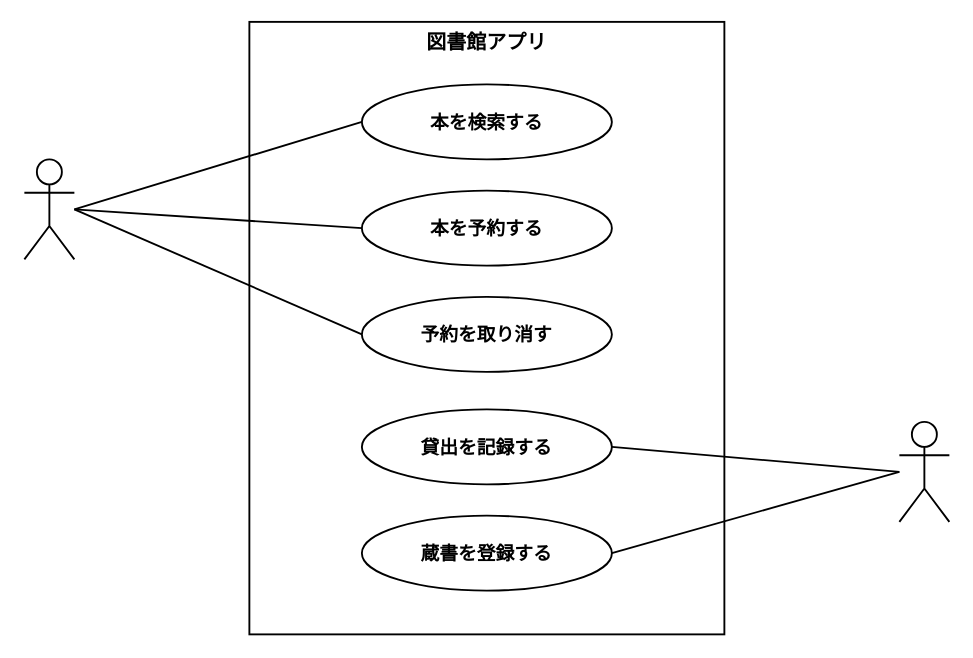
The diagram is 973 pixels wide and 658 high, and some of its shapes have lost their labels. Each missing label, with the centre of its shape:
"利用者" belongs at point 49,209.
"司書" belongs at point 924,471.
